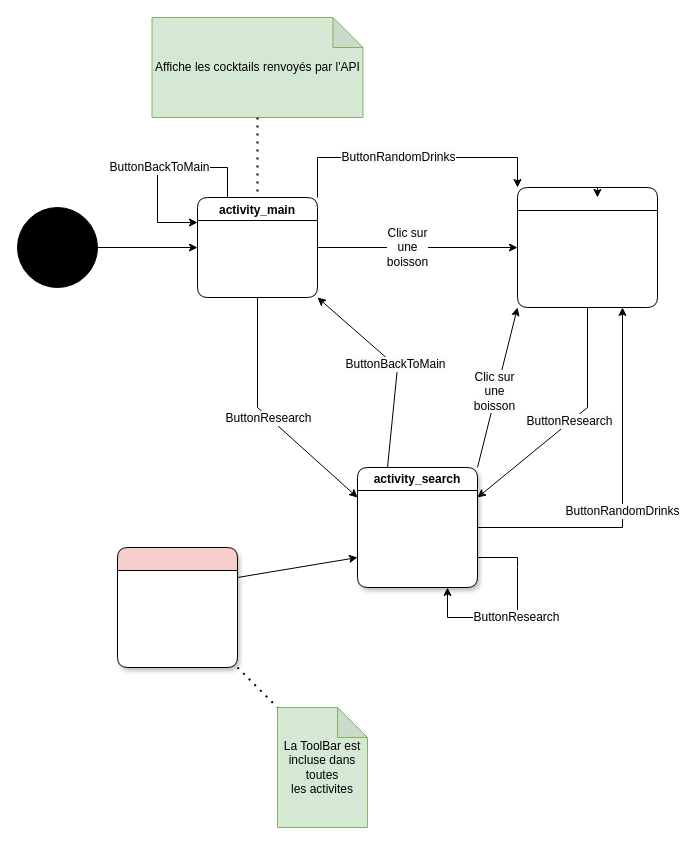
This 696x845 diagram has some shape labels left out. The shapes that lost their labels are listed below. From the top down, each one's centre as x and y in pixels, then its label:
At (x=587, y=247): "activity_drinks_details".
At (x=178, y=608): "ToolBar".
